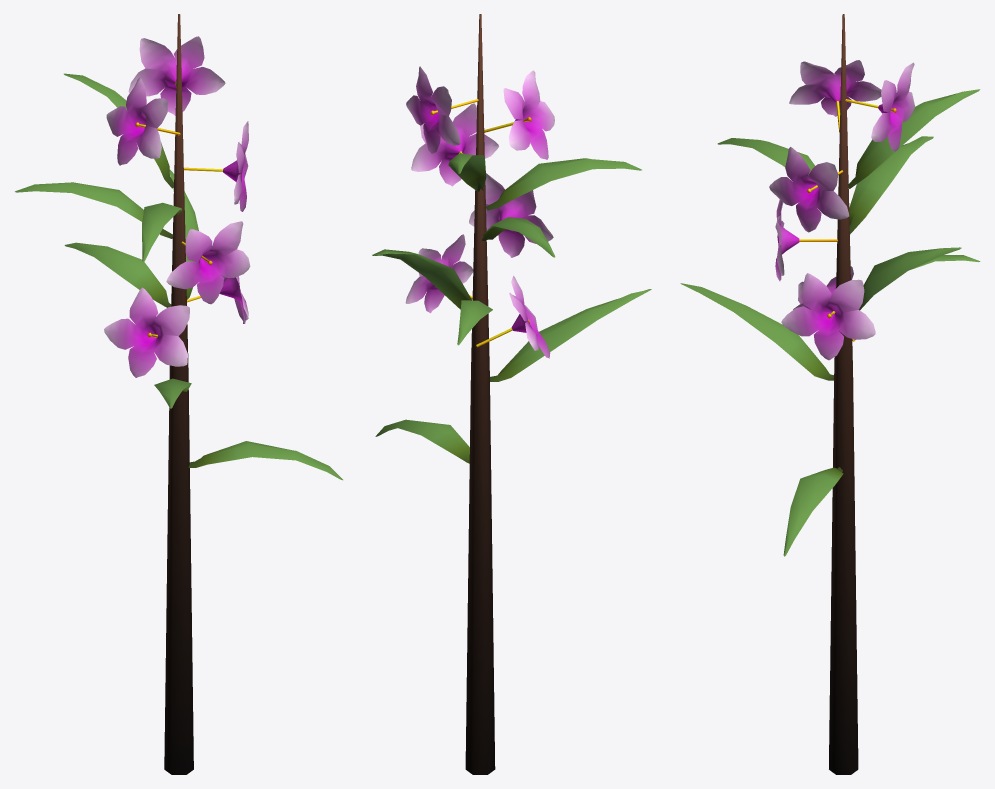
File: Blechum spp.fbx
The picture shows the model from 3 angles, left to right: view 1: azimuth 30°, elevation 25°; view 2: azimuth 150°, elevation 25°; view 3: azimuth 270°, elevation 25°; orthographic projection.
Parts seen in each view (by area): view 1: Plane.025; view 2: Plane.025; view 3: Plane.025.
Boxes of the visible parts, box(x1,y1,x2,y2) form: Plane.025: box(15, 14, 342, 774); Plane.025: box(372, 14, 651, 774); Plane.025: box(680, 14, 980, 774).
Bounding box in the file's own units: 739 × 2096 × 755.
